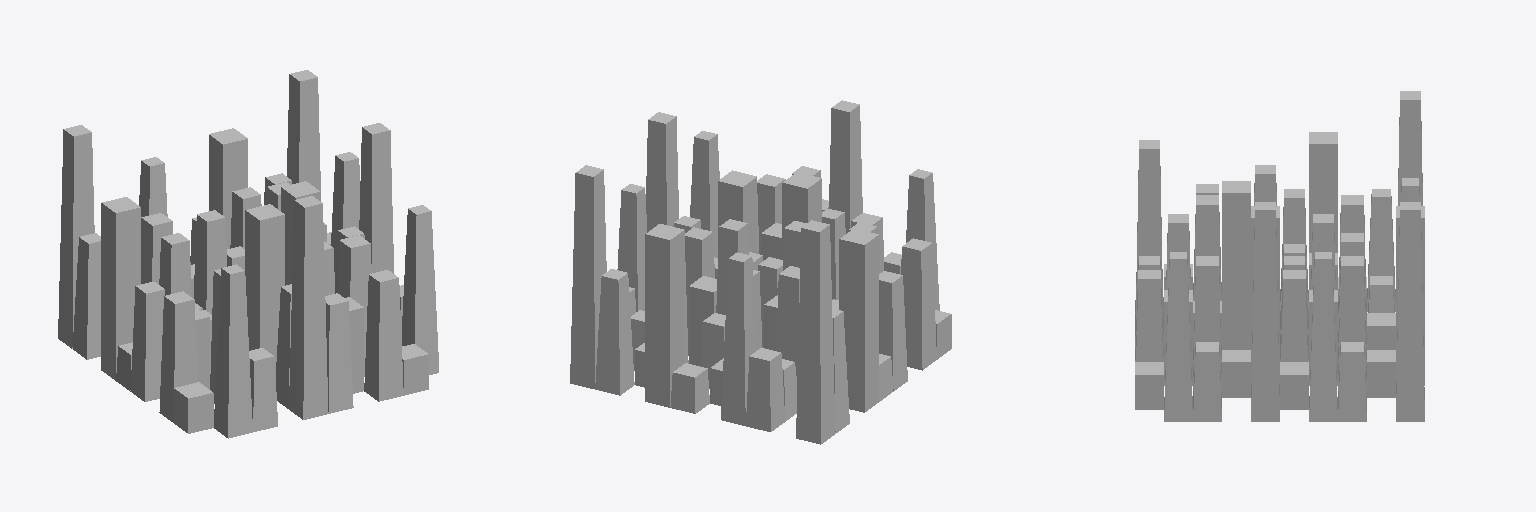
The model's file is grass.obj.
The picture shows the model from 3 angles: view 1: azimuth 30°, elevation 25°; view 2: azimuth 150°, elevation 25°; view 3: azimuth 270°, elevation 25°; orthographic projection.
Visible parts, largest first — view 1: Cube.002; view 2: Cube.002; view 3: Cube.002.
Boxes of the visible parts, x1,y1,x2,y2 form: Cube.002: [58, 70, 438, 438]; Cube.002: [570, 100, 951, 444]; Cube.002: [1135, 91, 1424, 421].
Bounding box in the file's own units: 1 × 0.8 × 1.